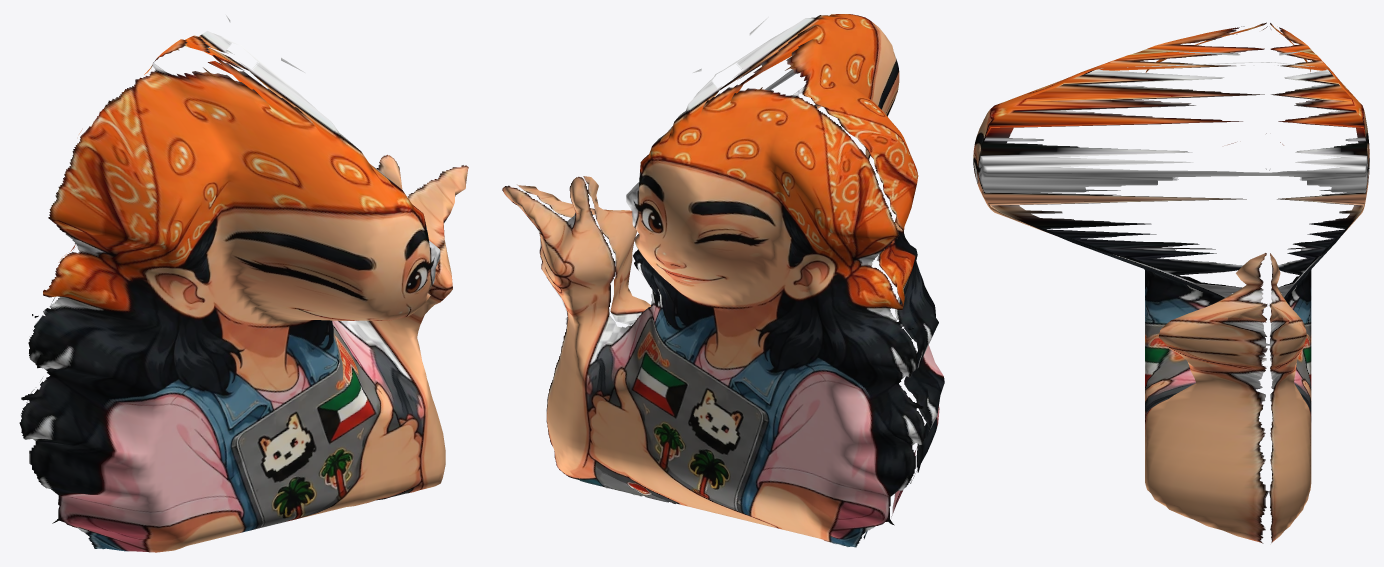
Rendered from char-shahd.glb.
The picture shows the model from 3 angles, left to right: view 1: azimuth 30°, elevation 25°; view 2: azimuth 150°, elevation 25°; view 3: azimuth 270°, elevation 25°; orthographic projection. The views are drawn at different scales.
Visible parts, largest first — view 1: shahd; view 2: shahd; view 3: shahd.
Part boxes in pixels (box(x1,y1,x2,y2)): shahd: box(19, 15, 468, 552); shahd: box(502, 14, 944, 547); shahd: box(973, 22, 1369, 543).
Size of the model in its own units: 0.986 by 1 by 0.8307.
Materials: 1 (1 with a texture image).
